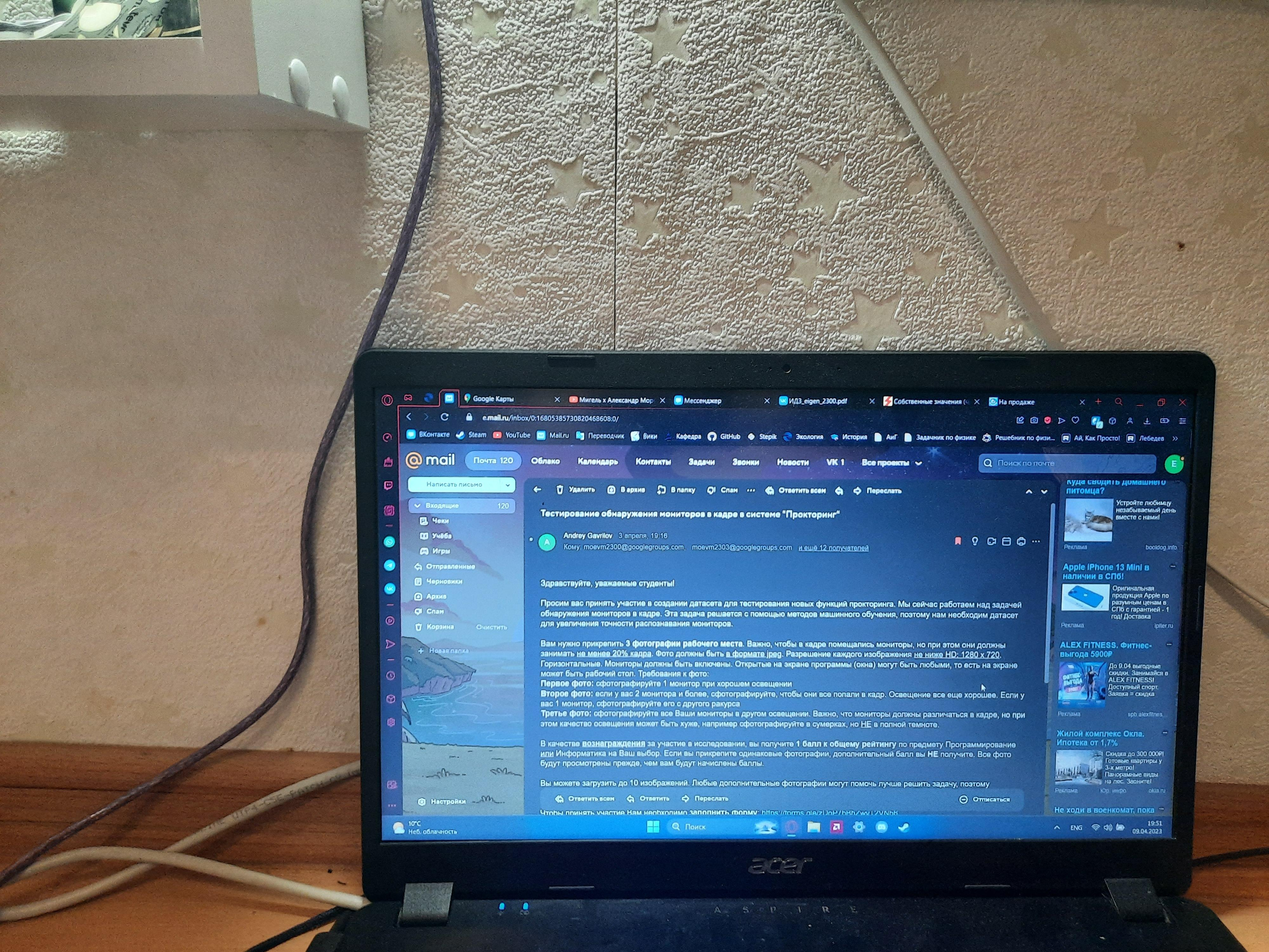monitor: (351, 346, 1215, 882)
